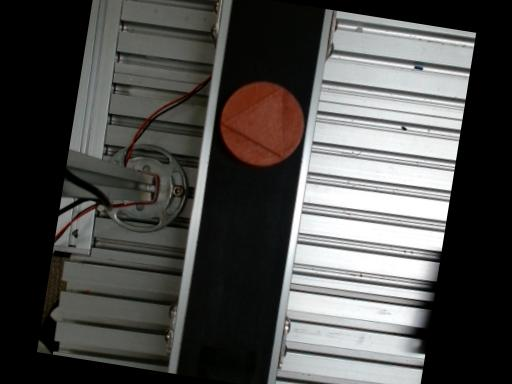Brown_Waper: (220, 80, 304, 165)
Not_Square: (221, 86, 283, 158)
